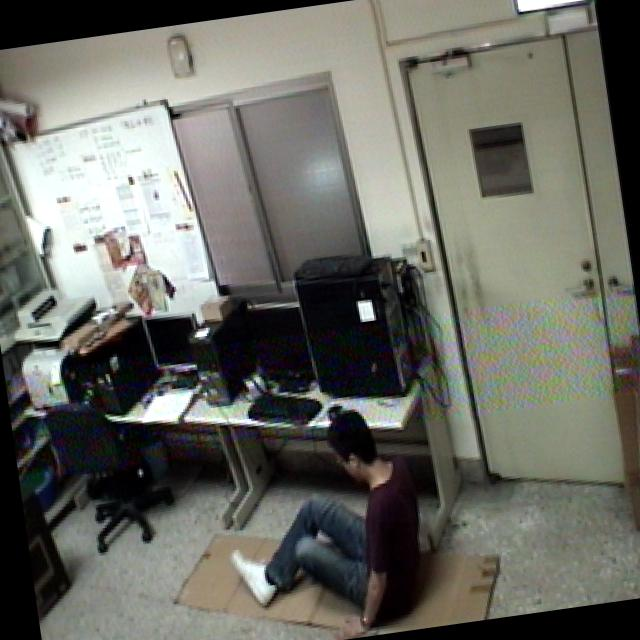sit: (207, 396, 439, 640)
